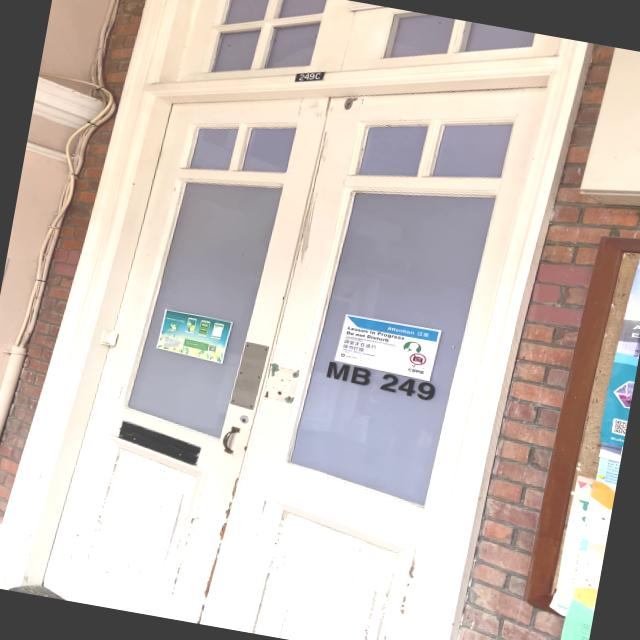room249c: (287, 62, 328, 88)
room249cWindow: (315, 354, 441, 404)
